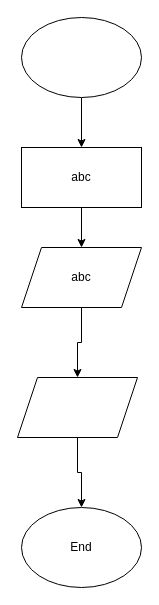
Image size: 159x605. Some labels were removed from this diagram. The shapes that lost their labels are listed below. From the top down, each one's centre as x and y in pixels, then its label:
At (x=81, y=57): "Start".
At (x=77, y=407): "cba".
